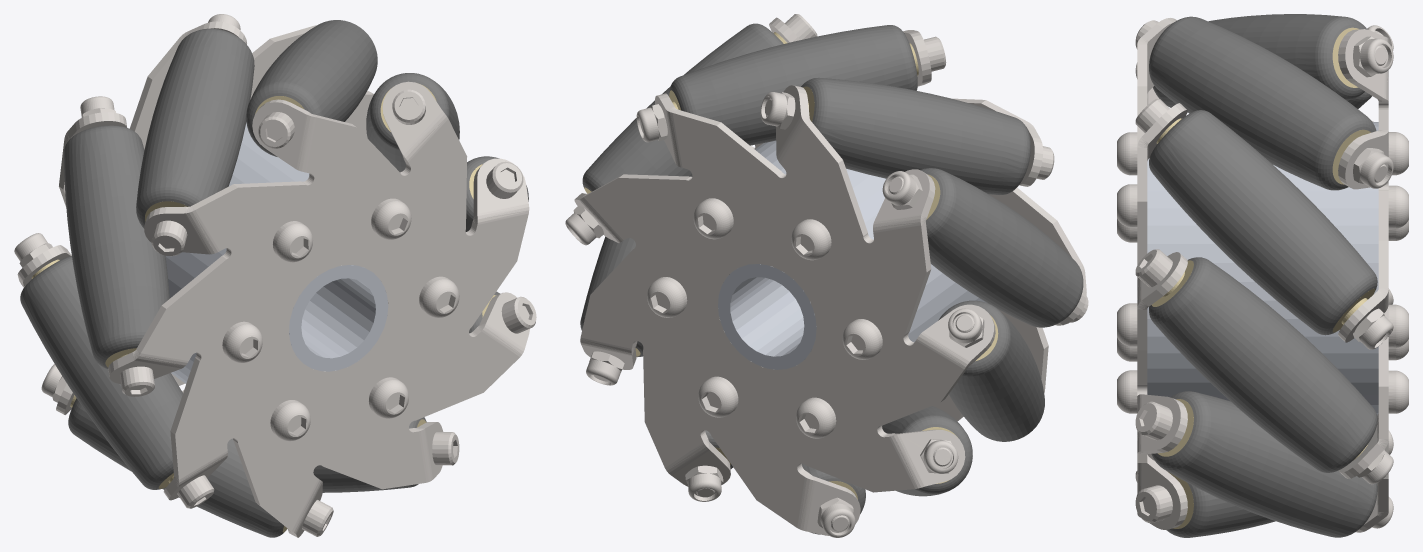
File: Mecanum_Wheel_dia_100_right_10.3dxml.glb
The picture shows the model from 3 angles, left to right: view 1: azimuth 30°, elevation 25°; view 2: azimuth 150°, elevation 25°; view 3: azimuth 270°, elevation 25°; orthographic projection. The views are drawn at different scales.
Visible parts, largest first — view 1: Mecanum Wheel (dia 100) right; view 2: Mecanum Wheel (dia 100) right; view 3: Mecanum Wheel (dia 100) right.
Boxes of the visible parts, bbox=[...] form: Mecanum Wheel (dia 100) right: bbox=[14, 14, 536, 537]; Mecanum Wheel (dia 100) right: bbox=[565, 14, 1088, 537]; Mecanum Wheel (dia 100) right: bbox=[1117, 14, 1408, 537].
Size of the model in its own units: 0.1042 by 0.1042 by 0.058.
